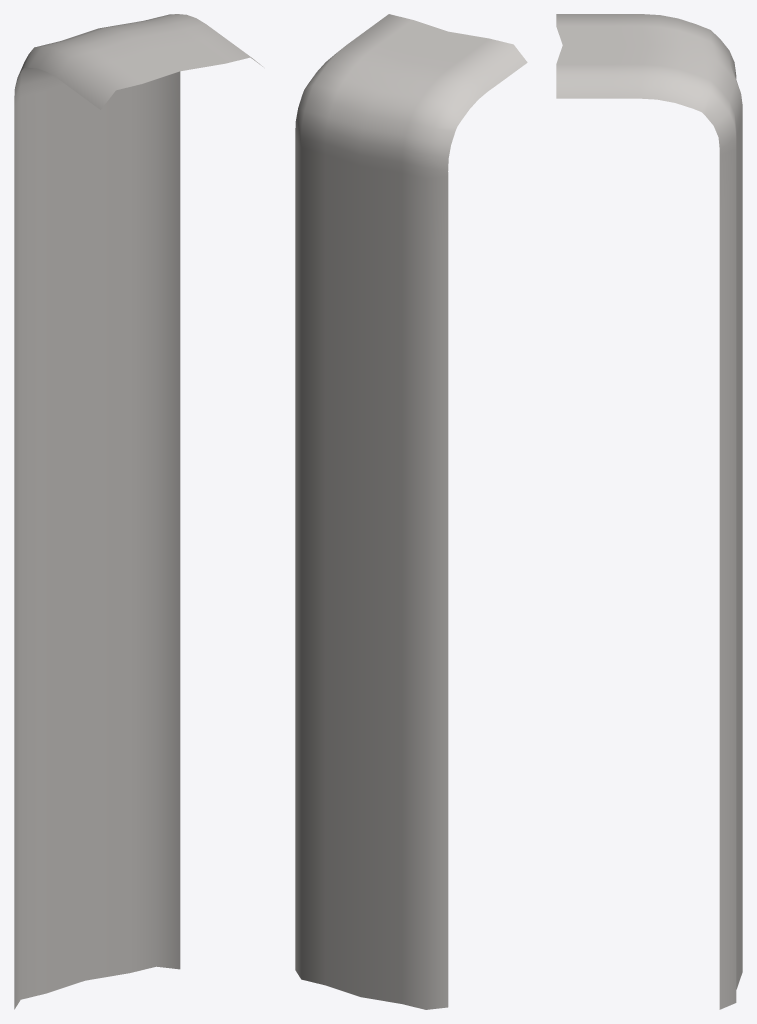
The model's file is WaterFallPlane.DAE.
3 renders of one model, left to right at view 1: azimuth 30°, elevation 25°; view 2: azimuth 150°, elevation 25°; view 3: azimuth 270°, elevation 25°, orthographic. The views are drawn at different scales.
Parts seen in each view (by area): view 1: Plane001; view 2: Plane001; view 3: Plane001.
Part boxes in pixels (x1,y1,x2,y2): Plane001: [14, 14, 262, 1009]; Plane001: [295, 14, 527, 1009]; Plane001: [556, 14, 742, 1009].
Bounding box in the file's own units: 10.87 × 11.18 × 61.22.
